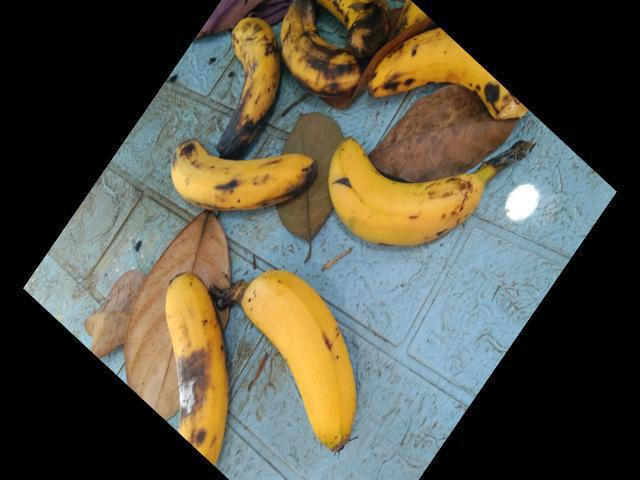freshripe: (235, 267, 401, 479)
ripe: (318, 141, 499, 253), (368, 32, 553, 121), (151, 132, 321, 220)
rotten: (143, 270, 263, 479), (206, 12, 284, 146), (265, 0, 346, 105)
